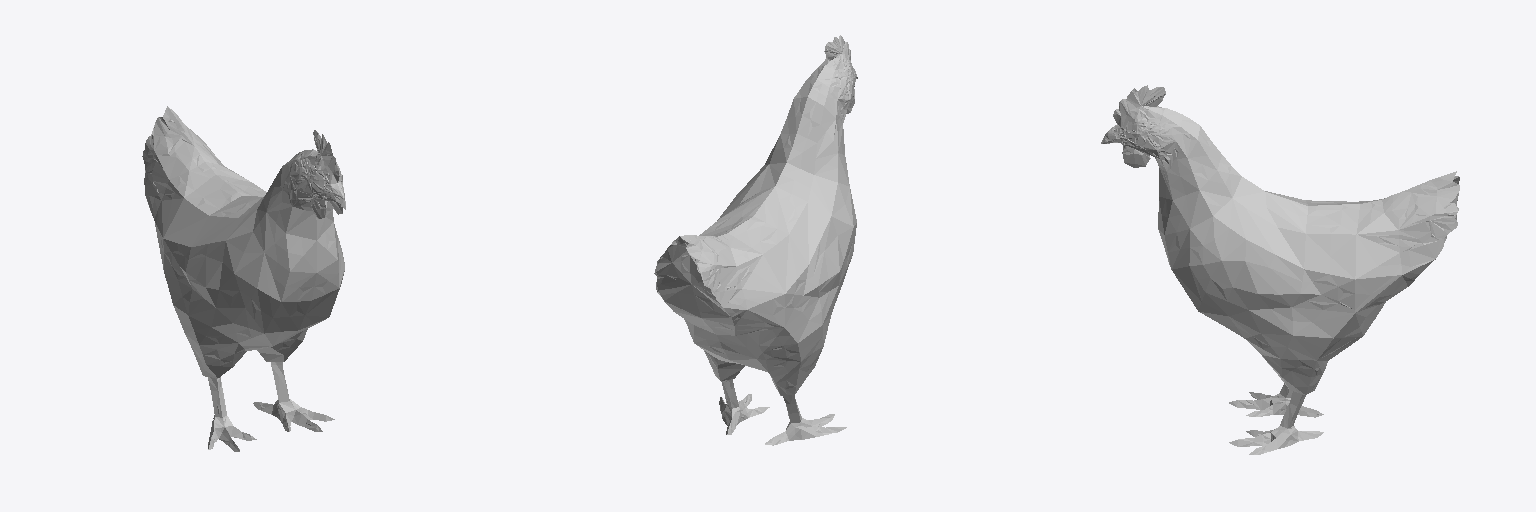
The model's file is chicken.obj.
3 renders of one model, left to right at view 1: azimuth 30°, elevation 25°; view 2: azimuth 150°, elevation 25°; view 3: azimuth 270°, elevation 25°, orthographic.
Parts seen in each view (by area): view 1: chicken_01; view 2: chicken_01; view 3: chicken_01.
Boxes of the visible parts, <box> form: chicken_01: <box>142,106,345,451</box>; chicken_01: <box>654,35,857,445</box>; chicken_01: <box>1101,85,1459,454</box>.
Bounding box in the file's own units: 0.5087 × 1.3 × 1.24.